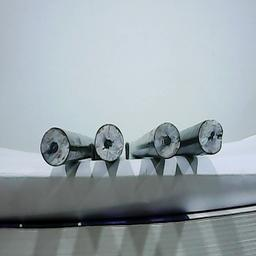pen: (39, 127, 71, 167), (93, 122, 125, 162), (152, 121, 181, 159), (197, 118, 225, 155)
